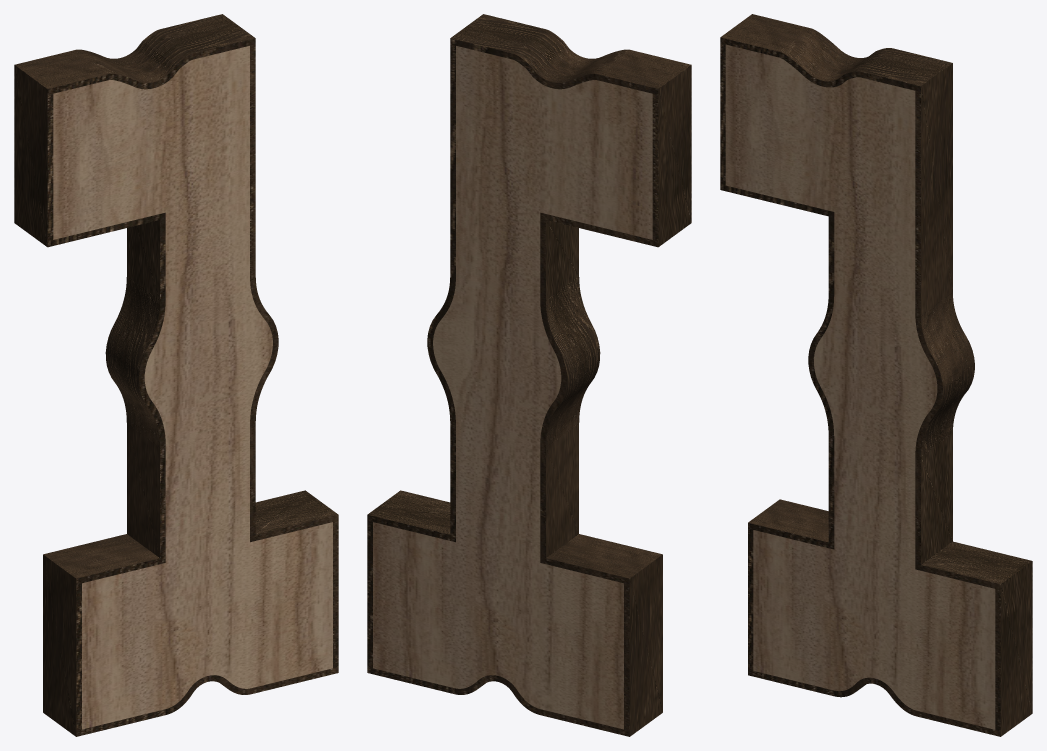
3 views of the same model, side by side, from view 1: azimuth 30°, elevation 25°; view 2: azimuth 150°, elevation 25°; view 3: azimuth 330°, elevation 25° (orthographic). The views are drawn at different scales.
Parts seen in each view (by area): view 1: 1, 1_outline; view 2: 1, 1_outline; view 3: 1, 1_outline.
Part boxes in pixels (left/top/right/bottom): 1: left=53, top=46, right=332, bottom=729; 1_outline: left=14, top=14, right=338, bottom=736; 1: left=373, top=46, right=652, bottom=729; 1_outline: left=367, top=14, right=691, bottom=736; 1: left=725, top=44, right=995, bottom=729; 1_outline: left=720, top=14, right=1032, bottom=736.
Size of the model in its own units: 50.6 by 109 by 10.
Materials: 2 (2 with a texture image).
